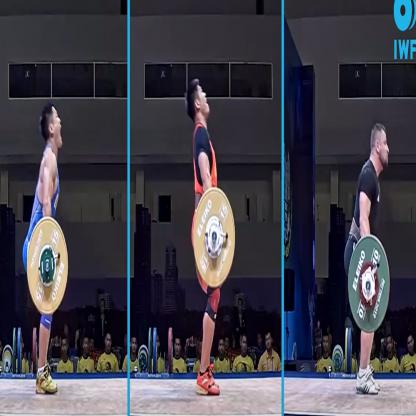Barbell: (186, 182, 246, 291), (22, 210, 74, 321), (348, 232, 394, 340)
